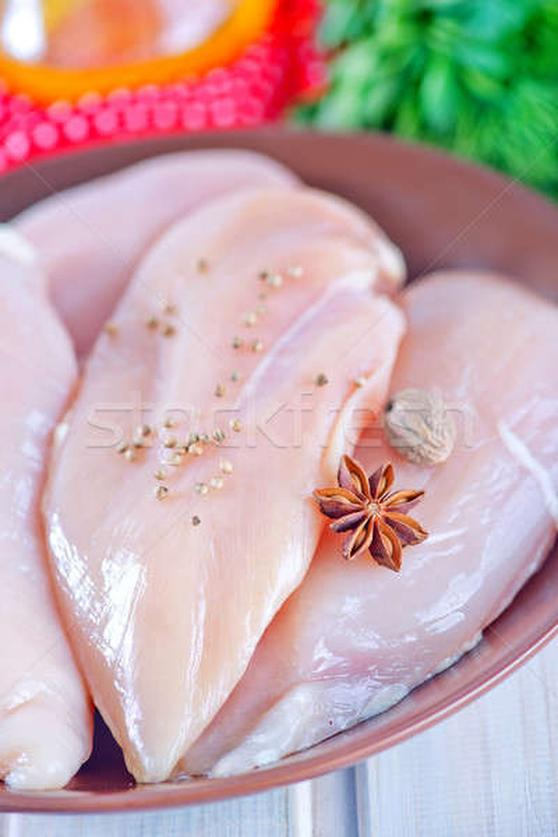chicken_fillet: (59, 177, 395, 792)
